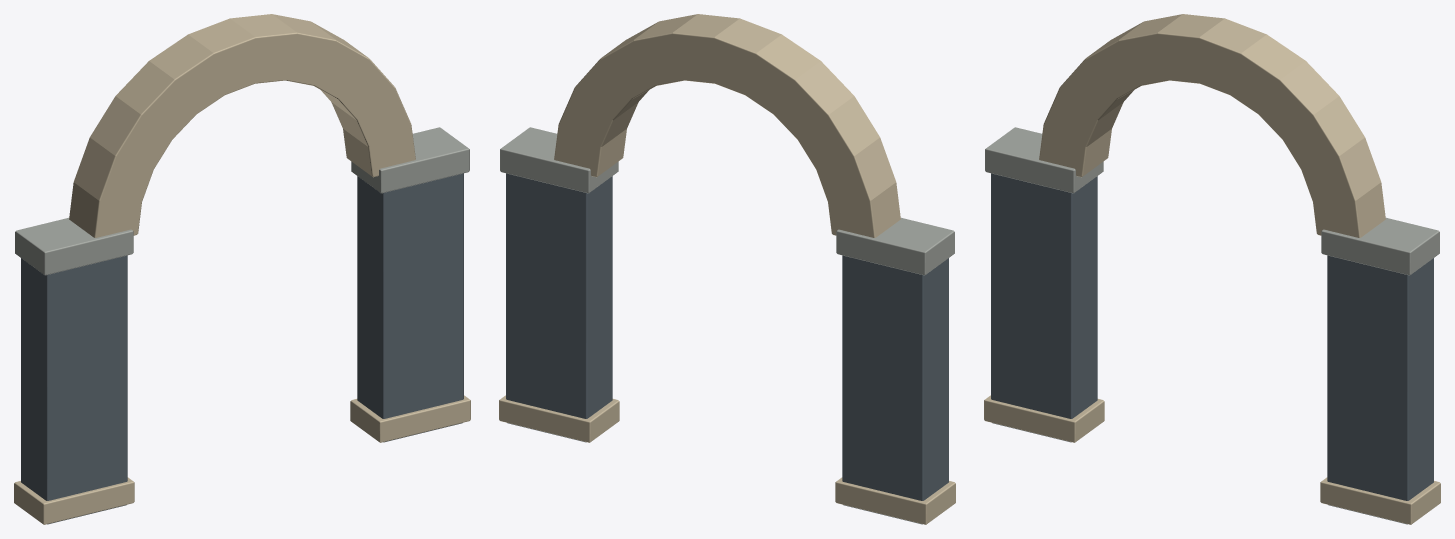
The model's file is SM_DoorArch_4m.glb.
The picture shows the model from 3 angles, left to right: view 1: azimuth 30°, elevation 25°; view 2: azimuth 150°, elevation 25°; view 3: azimuth 330°, elevation 25°; orthographic projection.
Visible parts, largest first — view 1: SM_DoorArch_4m; view 2: SM_DoorArch_4m; view 3: SM_DoorArch_4m.
Boxes of the visible parts, bbox=[...] form: SM_DoorArch_4m: bbox=[14, 14, 470, 524]; SM_DoorArch_4m: bbox=[499, 14, 955, 524]; SM_DoorArch_4m: bbox=[984, 14, 1440, 524].
Bounding box in the file's own units: 4.1 × 4 × 0.5.
